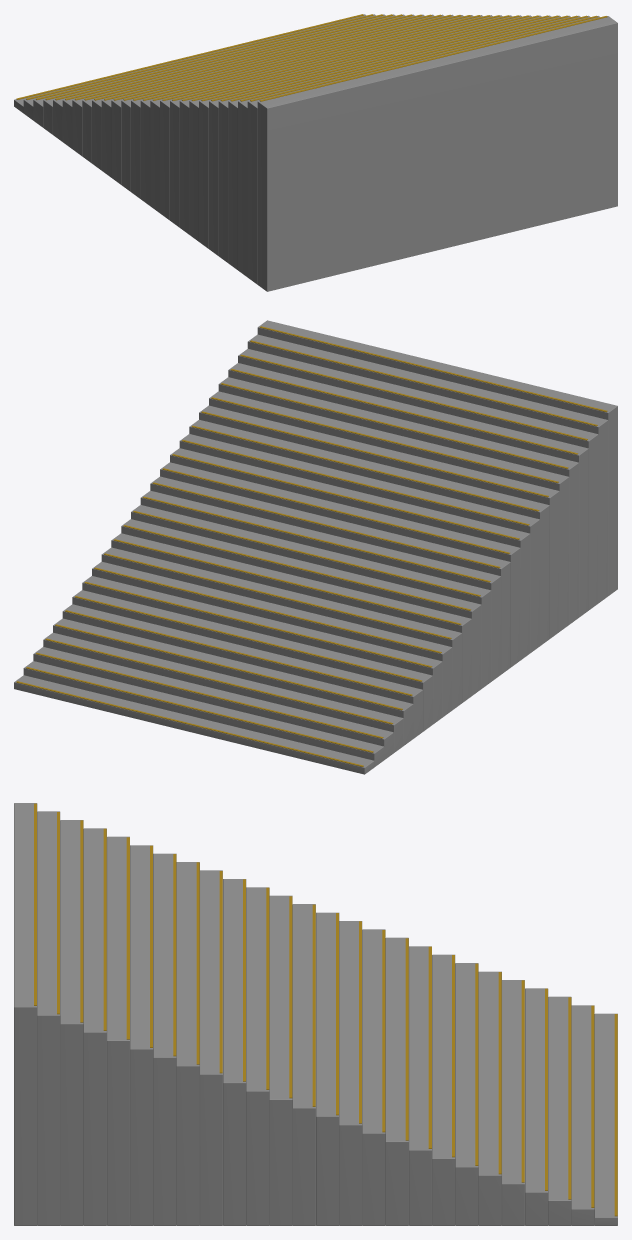
The model's file is Stairs_Concrete_8m.fbx.
3 views of the same model, one above another, from view 1: azimuth 30°, elevation 25°; view 2: azimuth 150°, elevation 25°; view 3: azimuth 270°, elevation 25° (orthographic). The views are drawn at different scales.
Parts seen in each view (by area): view 1: Stairs_Concrete_8m_LOD0; view 2: Stairs_Concrete_8m_LOD0; view 3: Stairs_Concrete_8m_LOD0.
Boxes of the visible parts, x1,y1,x2,y2 form: Stairs_Concrete_8m_LOD0: [14, 14, 617, 291]; Stairs_Concrete_8m_LOD0: [14, 320, 617, 774]; Stairs_Concrete_8m_LOD0: [14, 803, 617, 1225].
Size of what is drawn, in the model's own units: 8 by 4.01 by 10.
